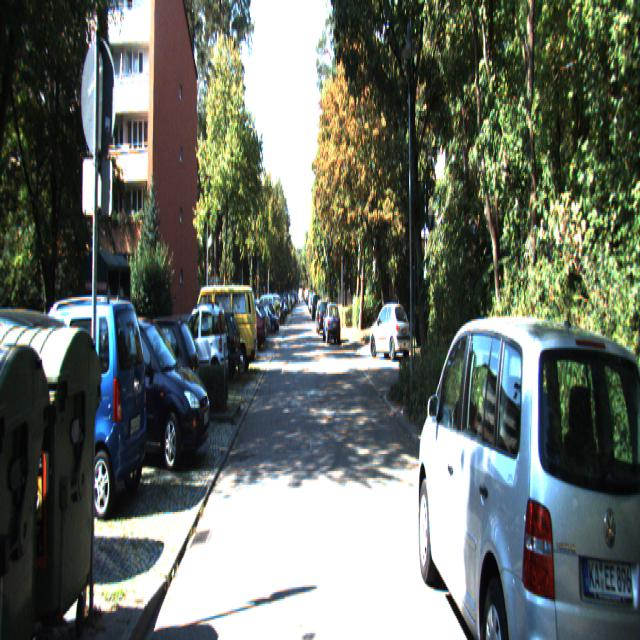Car: (413, 294, 639, 638), (0, 296, 151, 521), (0, 298, 95, 588), (82, 310, 212, 472), (192, 284, 258, 378), (167, 302, 229, 394), (181, 309, 241, 386), (369, 303, 411, 363), (322, 304, 340, 346)
